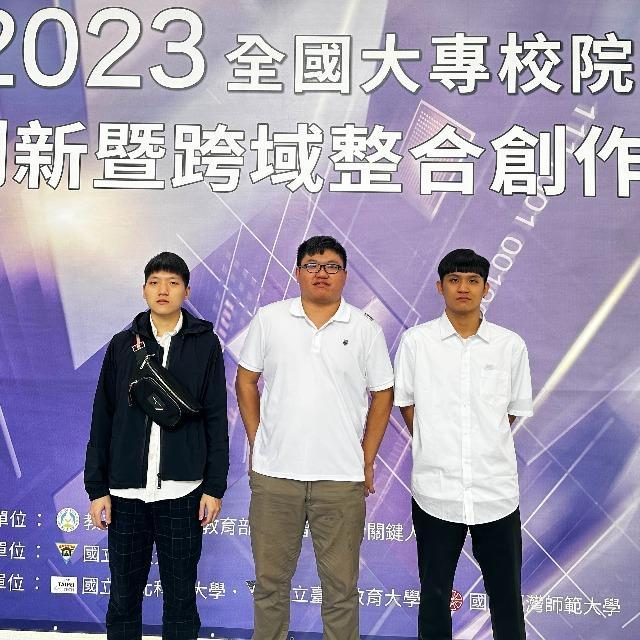NoHelmet: (435, 249, 492, 316), (295, 234, 348, 301), (141, 249, 191, 314)
NoVest: (242, 300, 393, 482), (400, 318, 528, 504), (107, 312, 229, 496)
